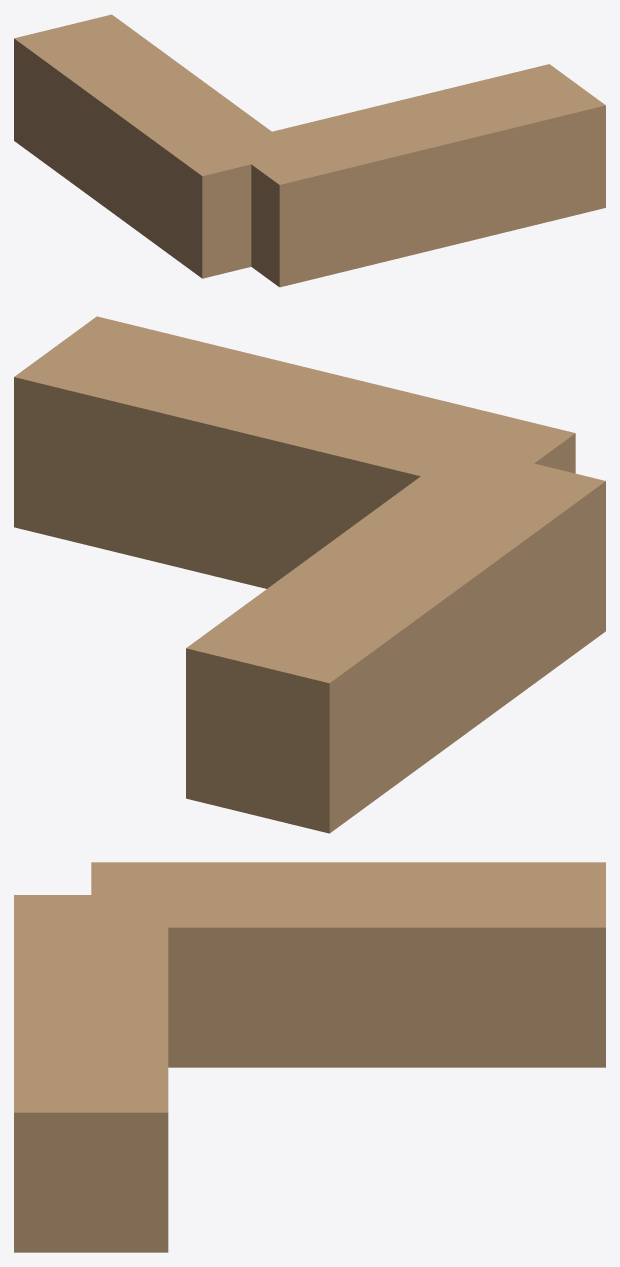
Rendered from Prop_Water_AMF_PipeElbow_V2.glb.
3 views of the same model, one above another, from view 1: azimuth 30°, elevation 25°; view 2: azimuth 150°, elevation 25°; view 3: azimuth 270°, elevation 25° (orthographic). The views are drawn at different scales.
Parts seen in each view (by area): view 1: Prop_Water_AMF_PipeElbow_V2; view 2: Prop_Water_AMF_PipeElbow_V2; view 3: Prop_Water_AMF_PipeElbow_V2.
Part boxes in pixels (<box>): Prop_Water_AMF_PipeElbow_V2: <box>14,14,605,287</box>; Prop_Water_AMF_PipeElbow_V2: <box>14,316,605,833</box>; Prop_Water_AMF_PipeElbow_V2: <box>14,862,605,1252</box>.
Bounding box in the file's own units: 0.575 × 0.15 × 0.575.
